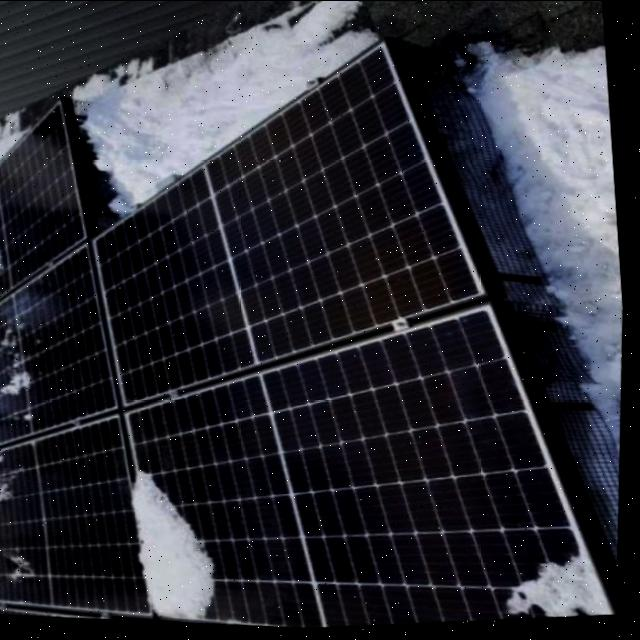Anomaly Solar Panel: (124, 311, 612, 630), (0, 415, 153, 617), (0, 245, 121, 445), (0, 102, 91, 301)
Normal Solar Panel: (98, 50, 487, 407)
Snow: (124, 471, 224, 624), (498, 557, 614, 623), (1, 315, 48, 410), (0, 444, 27, 513), (0, 226, 22, 300), (0, 549, 39, 589)
